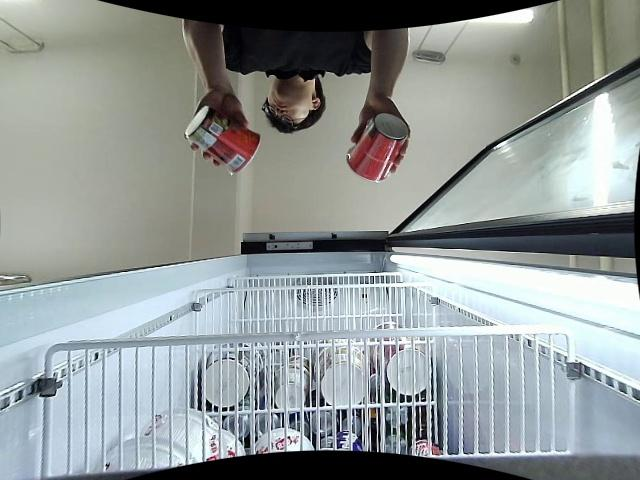00_hand: (352, 99, 411, 173), (192, 92, 248, 167)
02_shinRamen_S: (183, 107, 261, 175), (345, 114, 409, 183)
